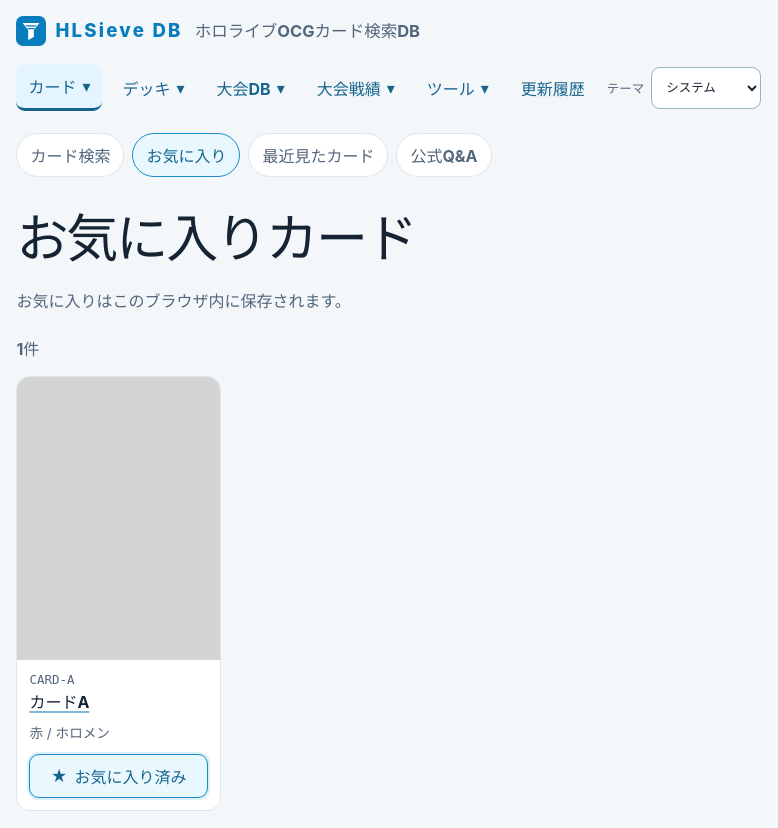
Test: FavoriteCardsPage › removes a favorite immediately and persists the change
The image size is (778, 828).
Click the button with aria-label "カードAをお気に入りから削除" at (119, 776), box [29,754,208,798]
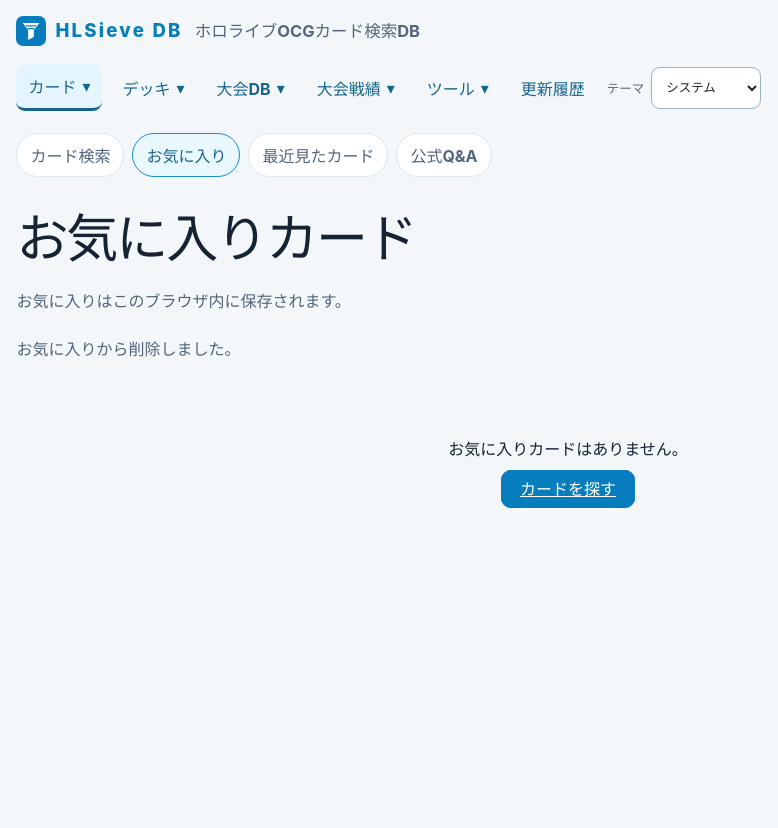
Check: the text "お気に入りカードはありません。" is shown, box [448,439,688,459]
